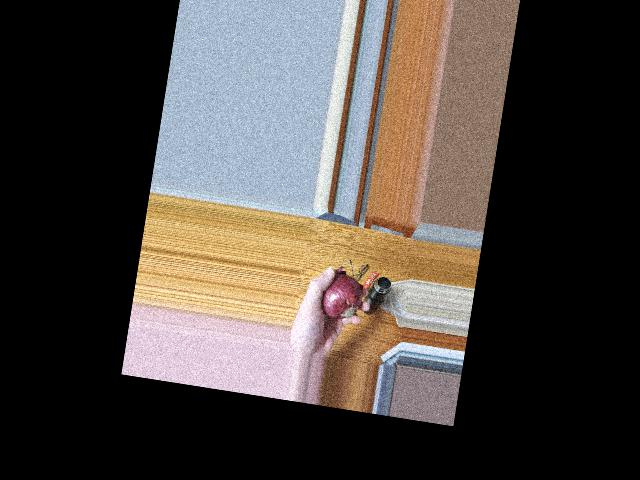onion: (323, 274, 364, 315)
